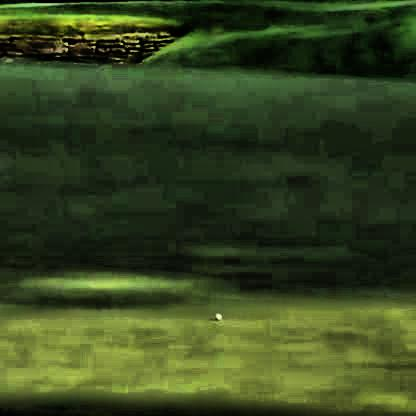golfball: (212, 309, 219, 319)
